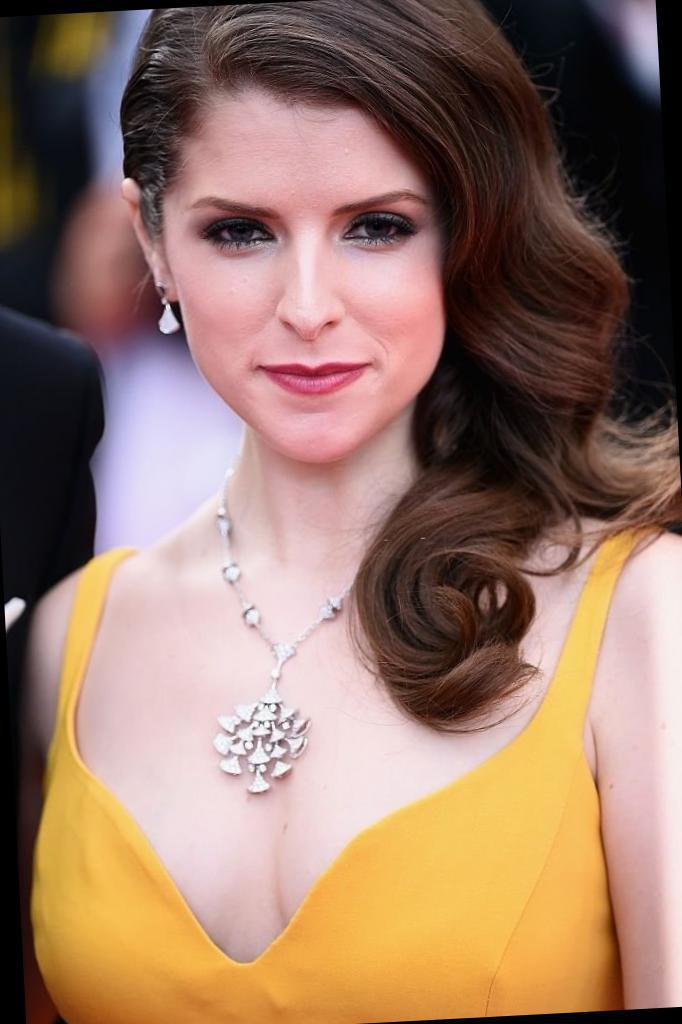Sober: (151, 104, 440, 407)
